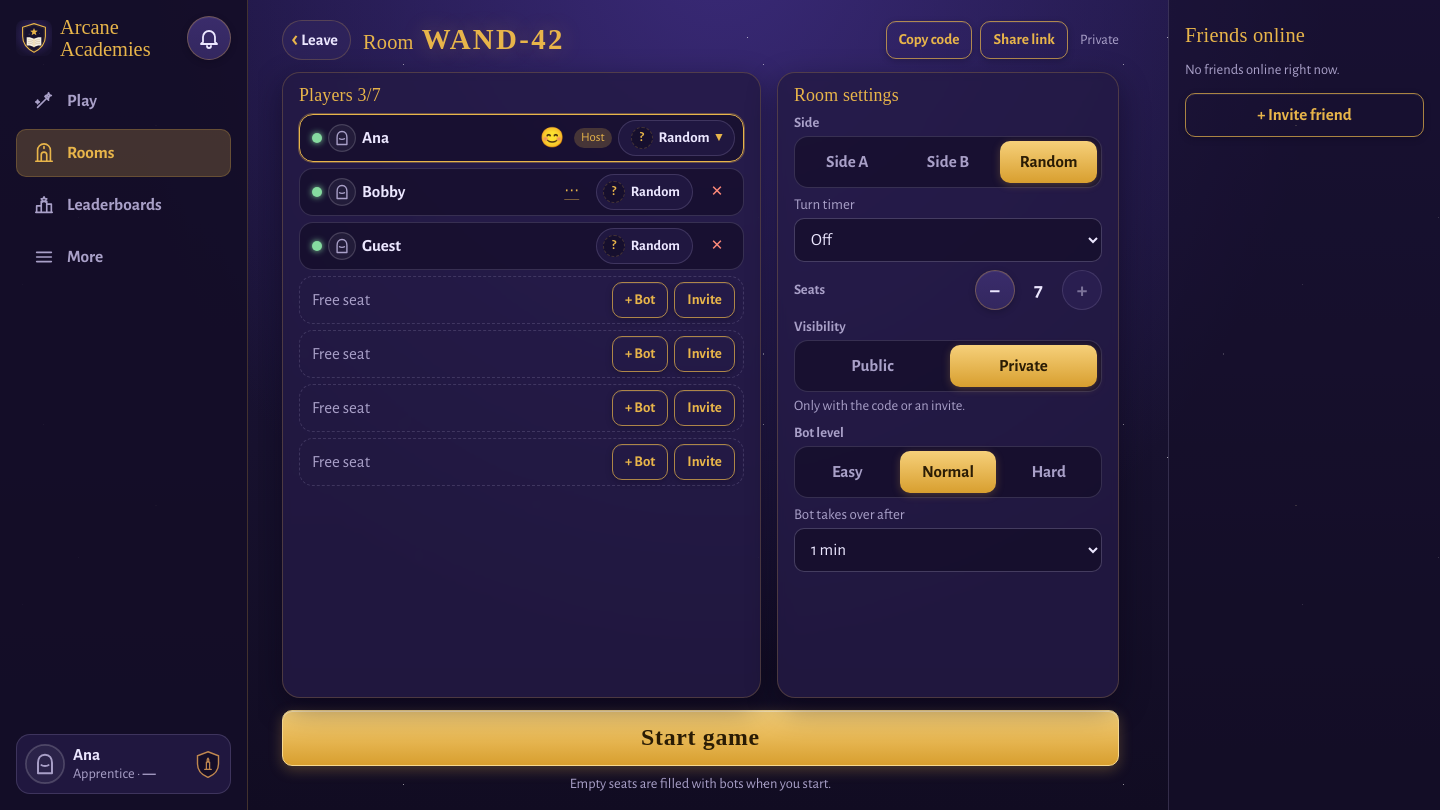
it: safety client › blocks and reports from a lobby seat, only for other logged-in players
Click the button named "Options for Bob" at coordinates (572, 192), box [554,174,590,210]
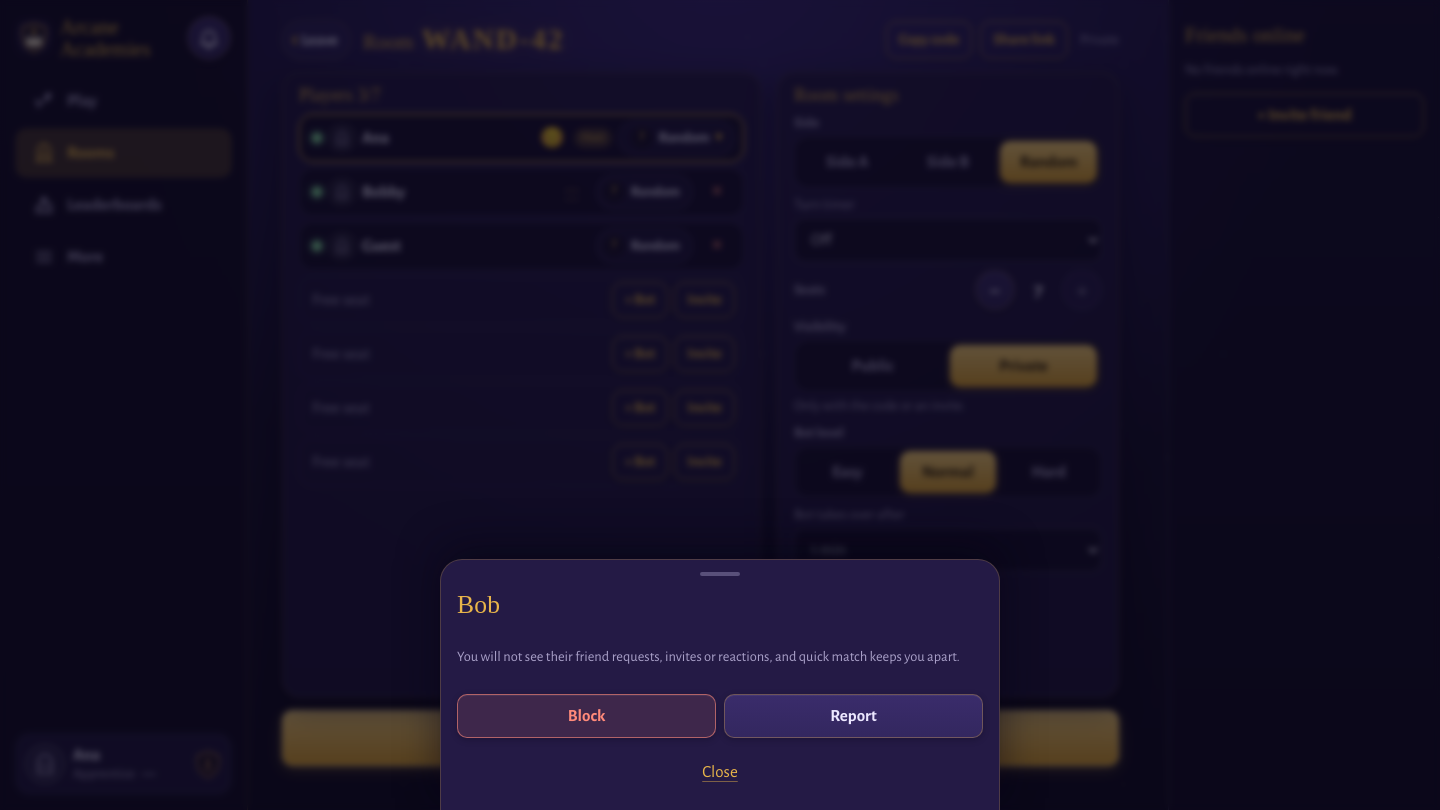
Click the button "Block" at coordinates (586, 716), box [457,694,716,738]
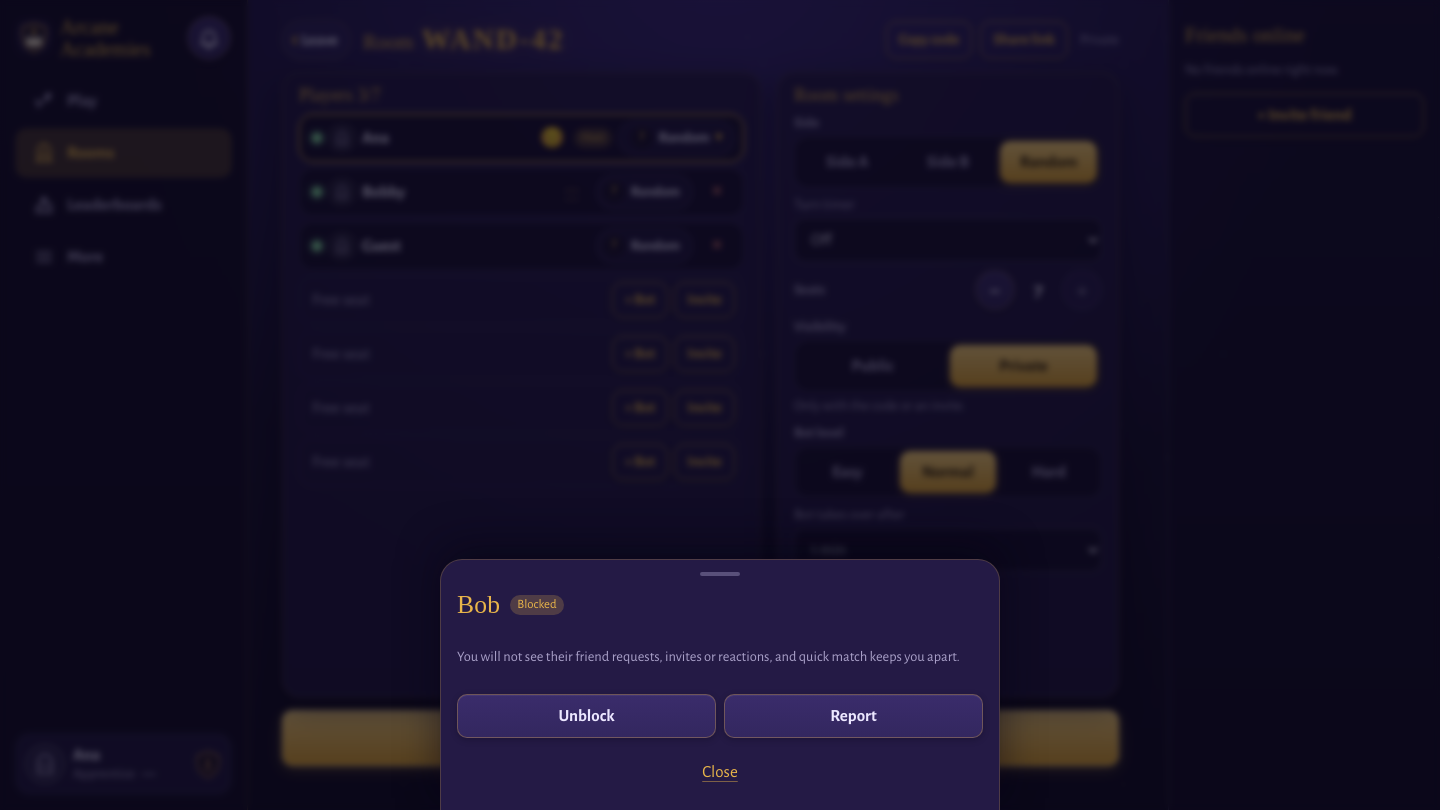
Check: the button "Unblock" is shown, box [457,694,716,738]
Click the button "Report" at coordinates (854, 716), box [724,694,983,738]
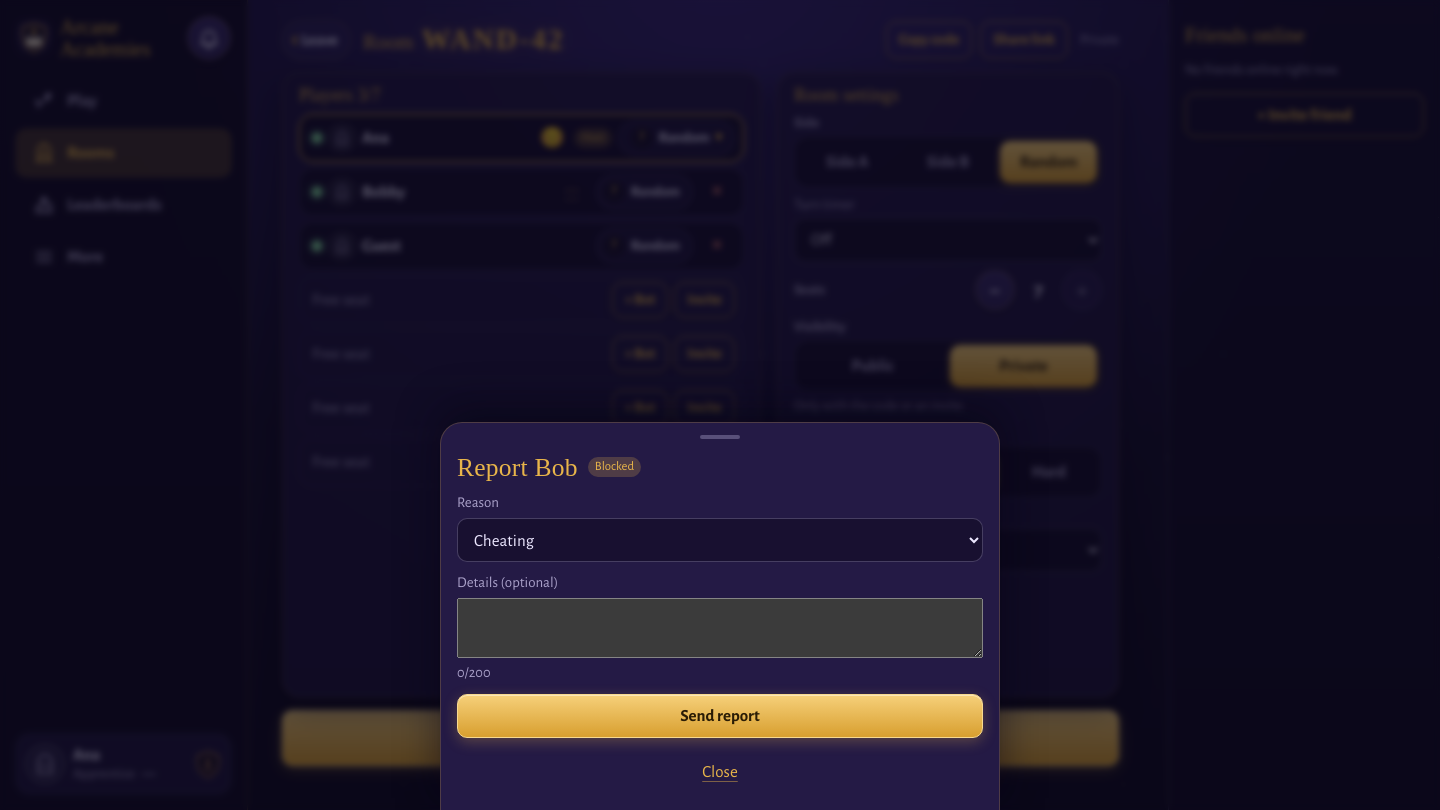
Select "Harassment" in the dropdown labelled "Reason" at coordinates (720, 540), box [457,518,983,562]
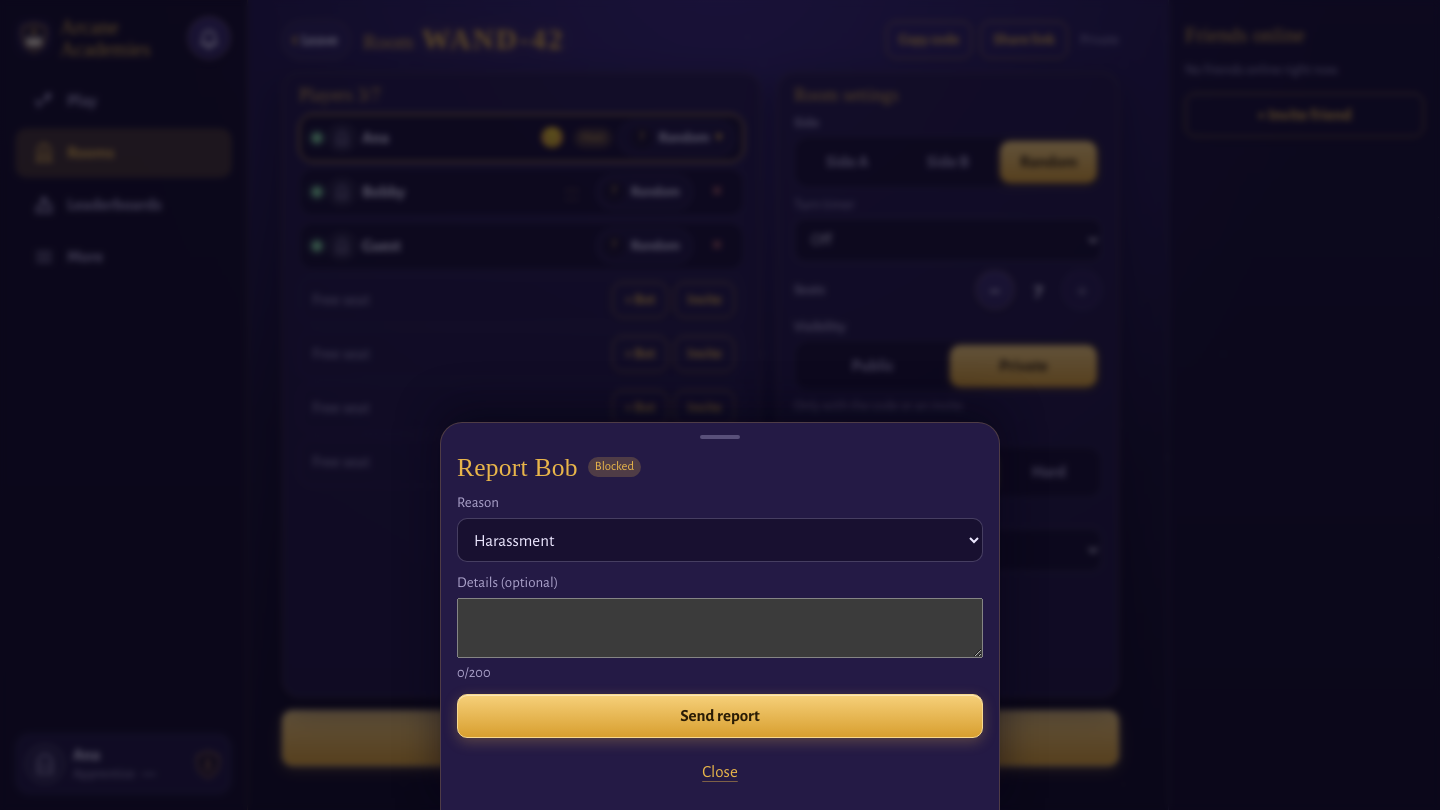
Type "  mean  " into the text box labelled "Details (optional)" at coordinates (720, 628), box [457,598,983,658]
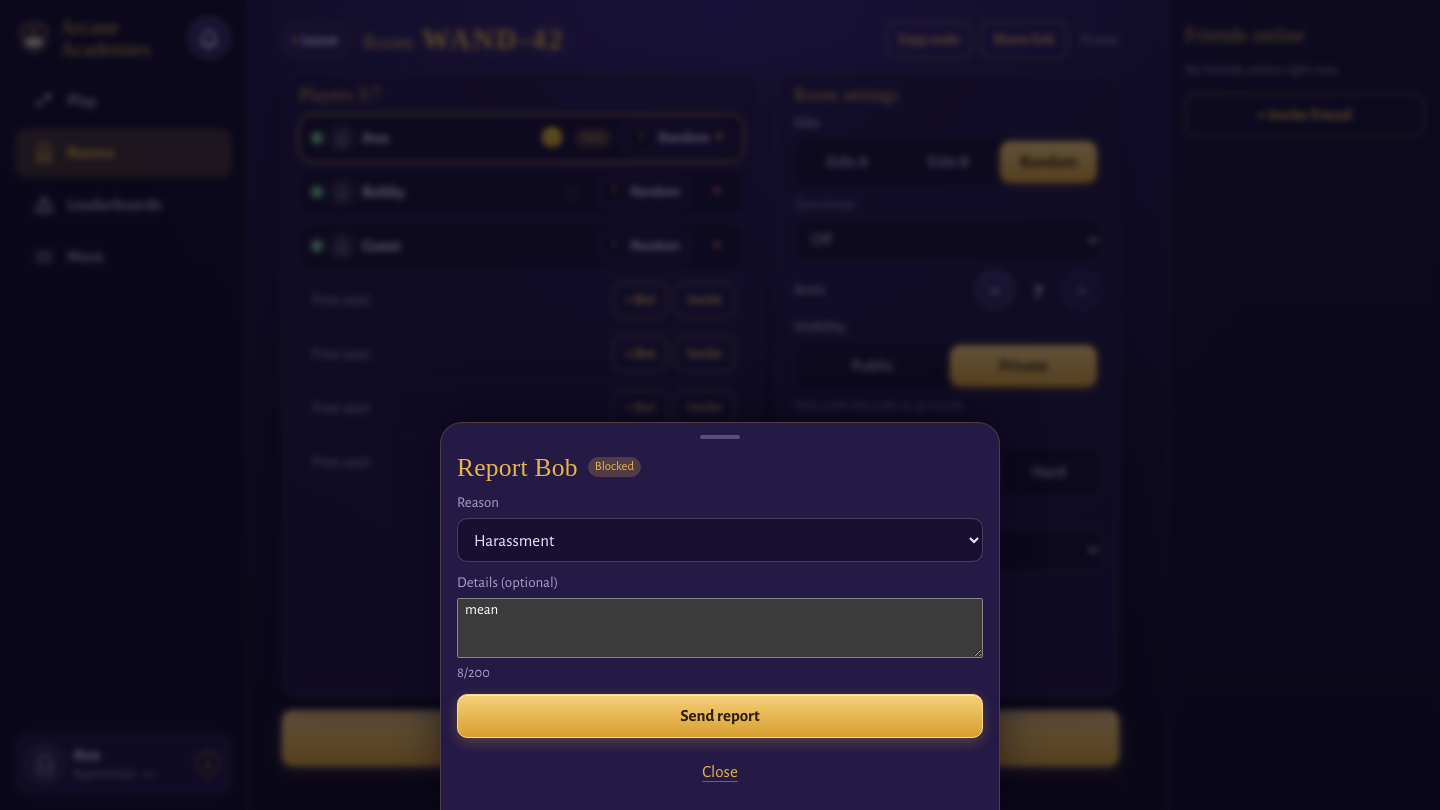
Click the button "Send report" at coordinates (720, 716), box [457,694,983,738]
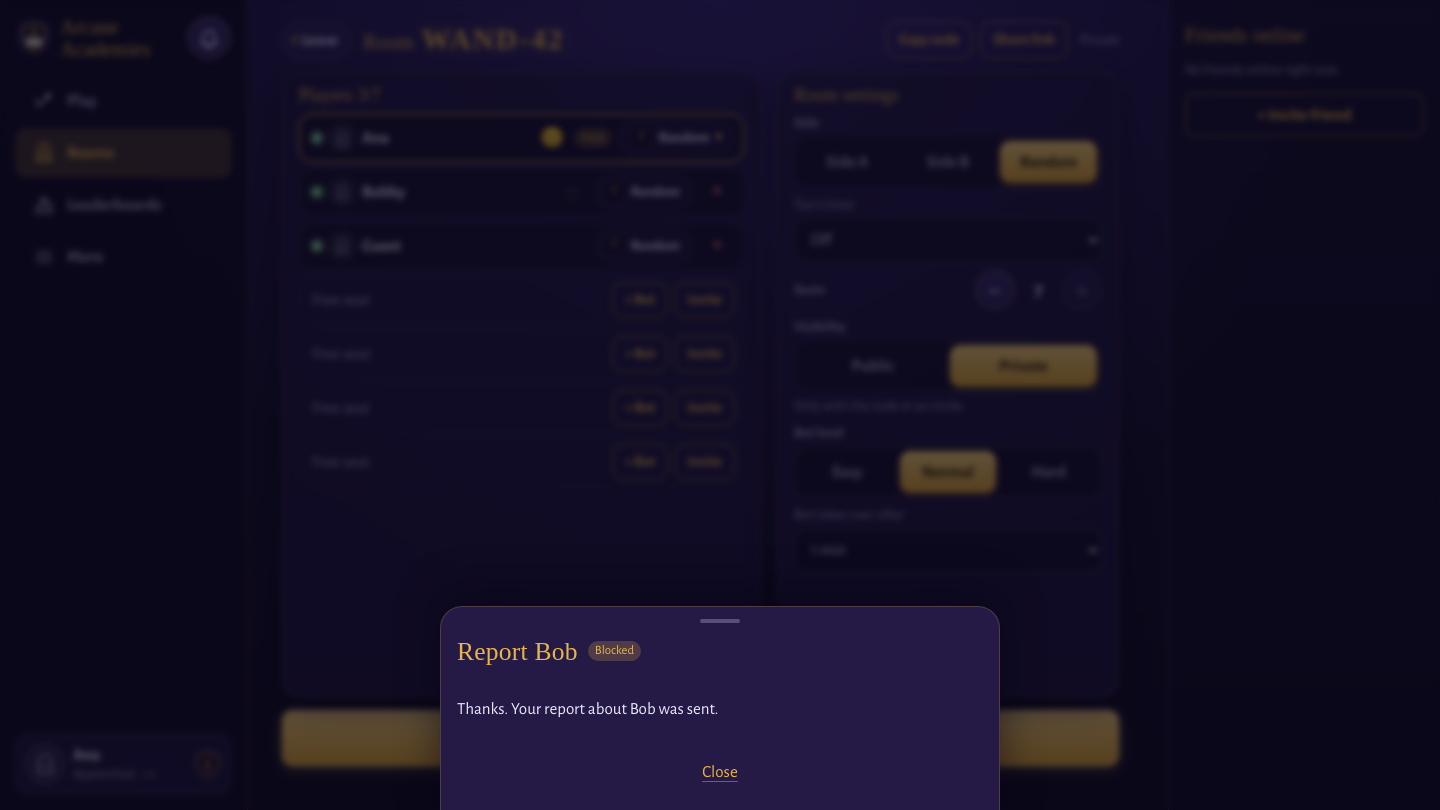
Check: the message shows "Your report about Bob was sent", box [457,700,718,716]
